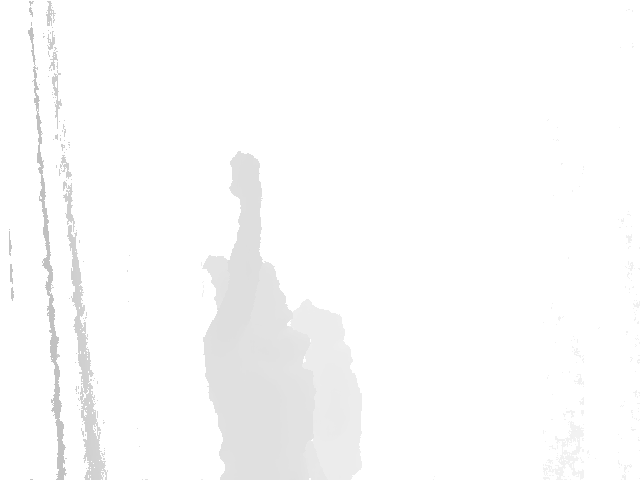hand: (226, 152, 265, 202)
head: (203, 253, 281, 316), (293, 298, 349, 339)
person: (198, 142, 312, 480), (290, 291, 357, 480)
